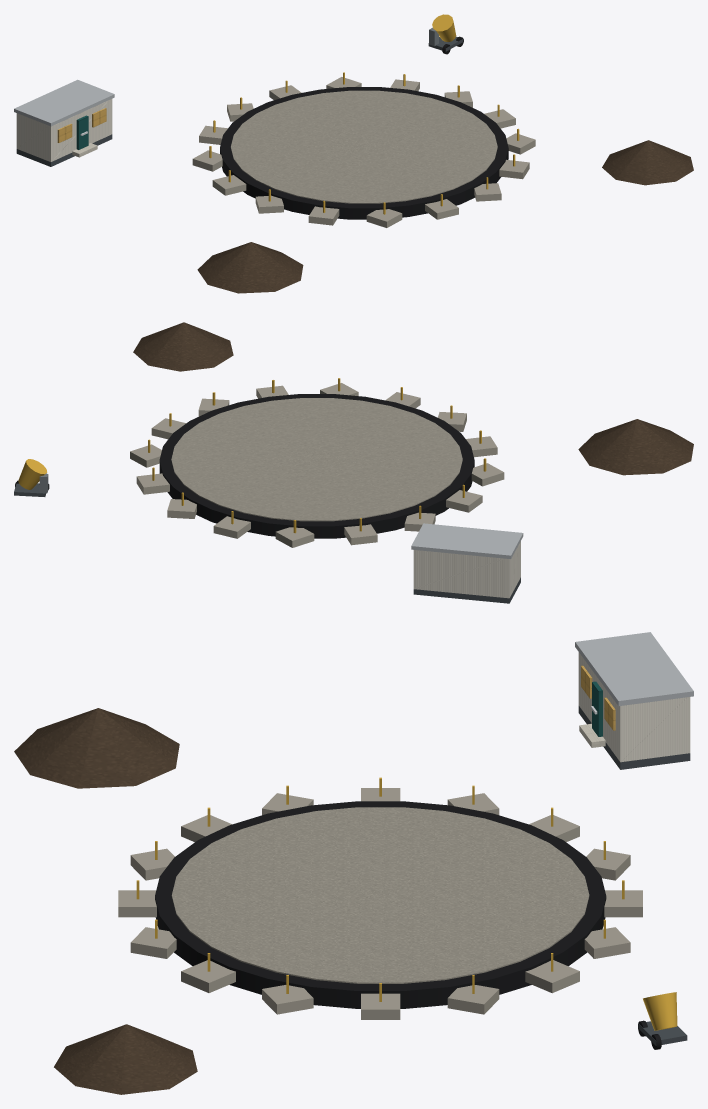
Rendered from lf-4-site.glb.
The picture shows the model from 3 angles, top to bottom: view 1: azimuth 30°, elevation 25°; view 2: azimuth 150°, elevation 25°; view 3: azimuth 270°, elevation 25°; orthographic projection. The views are drawn at different scales.
Bounding box in the file's own units: 32.49 × 3.15 × 24.1.
13 materials, 6 textured.
